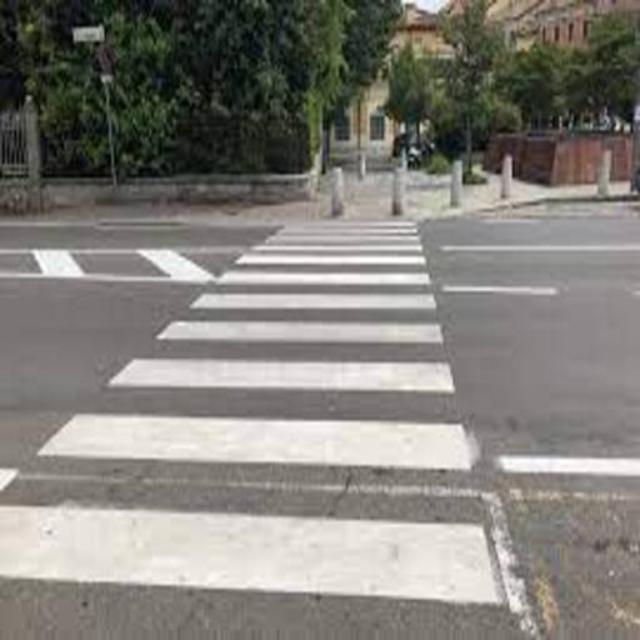sidewalk: (1, 215, 517, 640)
